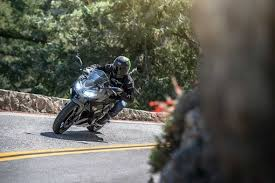motorcycle: (50, 56, 141, 135)
